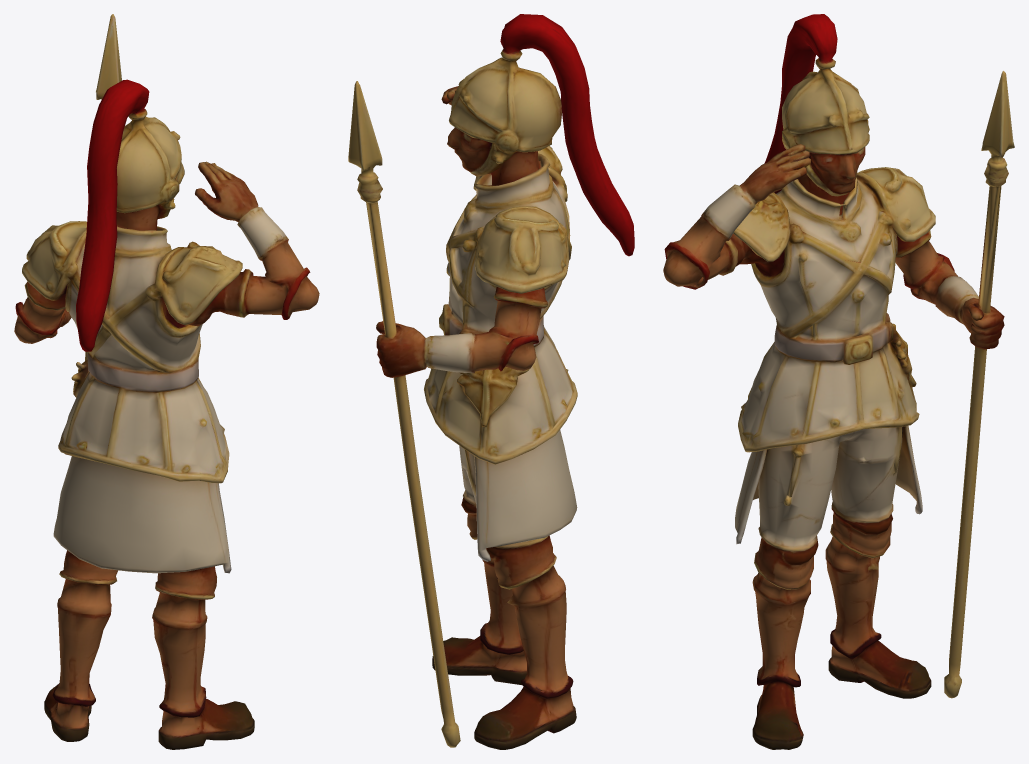
The picture shows the model from 3 angles, left to right: view 1: azimuth 30°, elevation 25°; view 2: azimuth 150°, elevation 25°; view 3: azimuth 270°, elevation 25°; orthographic projection. The views are drawn at different scales.
Parts seen in each view (by area): view 1: tripo_node_26e3158c-05c1-422d-bd5d-9ac066962a84; view 2: tripo_node_26e3158c-05c1-422d-bd5d-9ac066962a84; view 3: tripo_node_26e3158c-05c1-422d-bd5d-9ac066962a84.
Boxes of the visible parts, bbox=[...] form: tripo_node_26e3158c-05c1-422d-bd5d-9ac066962a84: bbox=[14, 14, 319, 749]; tripo_node_26e3158c-05c1-422d-bd5d-9ac066962a84: bbox=[348, 14, 634, 749]; tripo_node_26e3158c-05c1-422d-bd5d-9ac066962a84: bbox=[663, 14, 1014, 749].
Bounding box in the file's own units: 0.3151 × 0.998 × 0.4697.
Materials: 1 (1 with a texture image).
